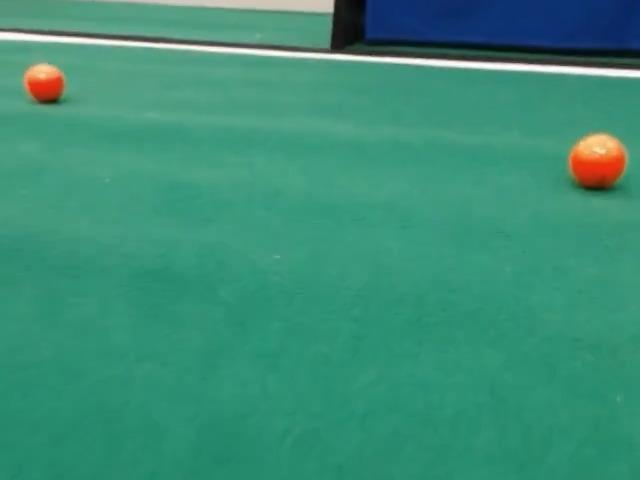Ball: (568, 133, 627, 189), (24, 63, 65, 103)
